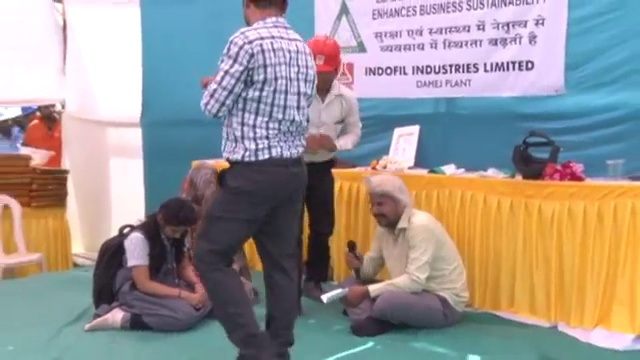helmet: (305, 36, 343, 75), (13, 145, 58, 166)
helmet_off: (360, 177, 413, 235), (179, 162, 231, 214), (150, 198, 196, 246), (242, 0, 290, 28), (37, 106, 60, 125)
helmet_on: (305, 37, 344, 94)
person: (197, 0, 316, 357), (338, 174, 470, 337), (80, 192, 213, 339), (292, 38, 359, 305), (173, 161, 259, 315), (27, 107, 63, 165)
